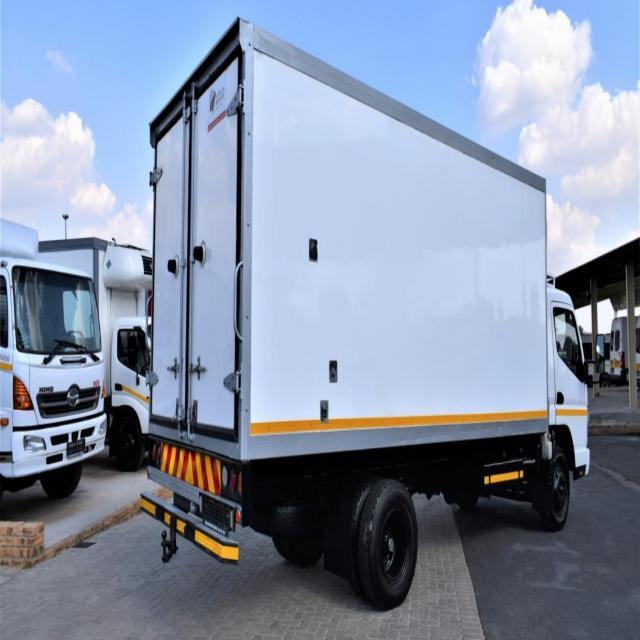truck: (138, 23, 592, 605), (0, 220, 109, 496)
